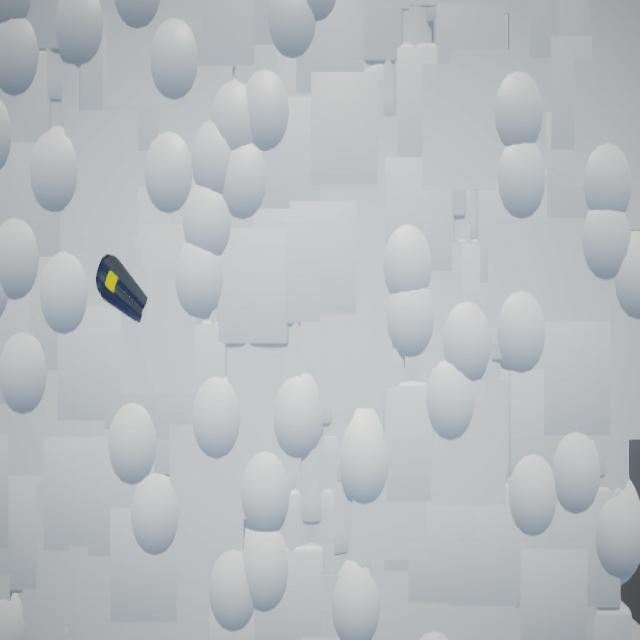handle_folk: (96, 256, 149, 325)
